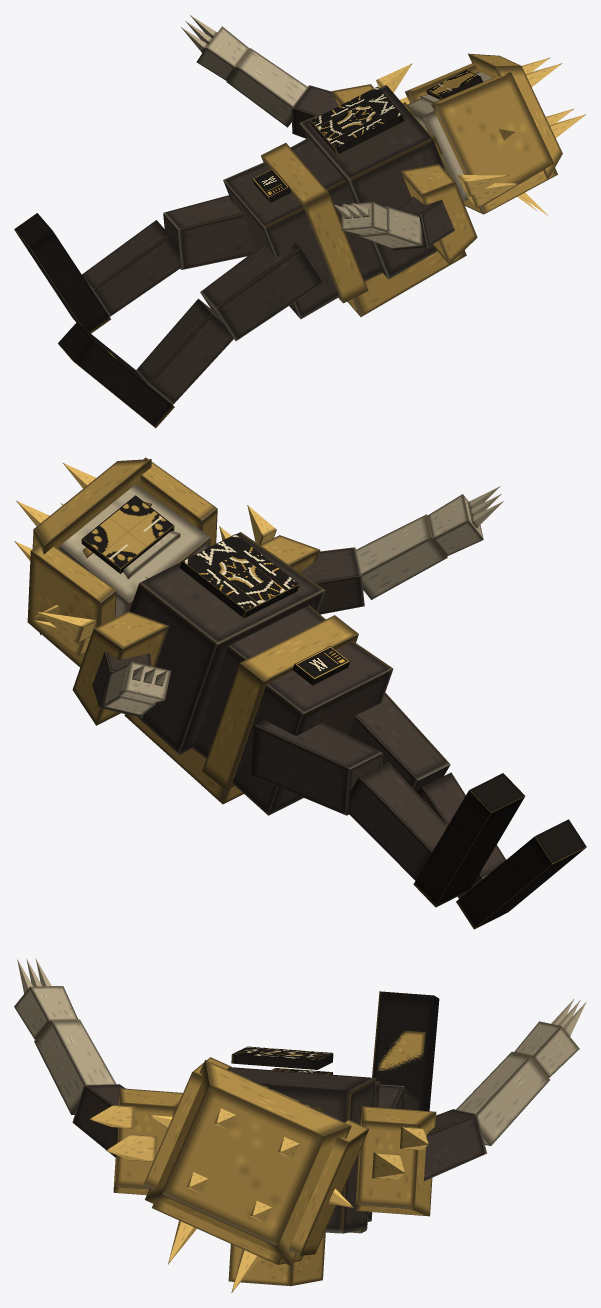
Rendered from choraz_death.obj.
3 views of the same model, one above another, from view 1: azimuth 30°, elevation 25°; view 2: azimuth 150°, elevation 25°; view 3: azimuth 270°, elevation 25° (orthographic). The views are drawn at different scales.
Parts seen in each view (by area): view 1: choraz_death; view 2: choraz_death; view 3: choraz_death.
Part boxes in pixels (box(x1,y1,x2,y2)): choraz_death: box(14, 15, 586, 428); choraz_death: box(14, 457, 586, 929); choraz_death: box(14, 958, 586, 1292).
Size of the model in its own units: 1.04 by 0.5909 by 0.8481.
Materials: 1 (1 with a texture image).
